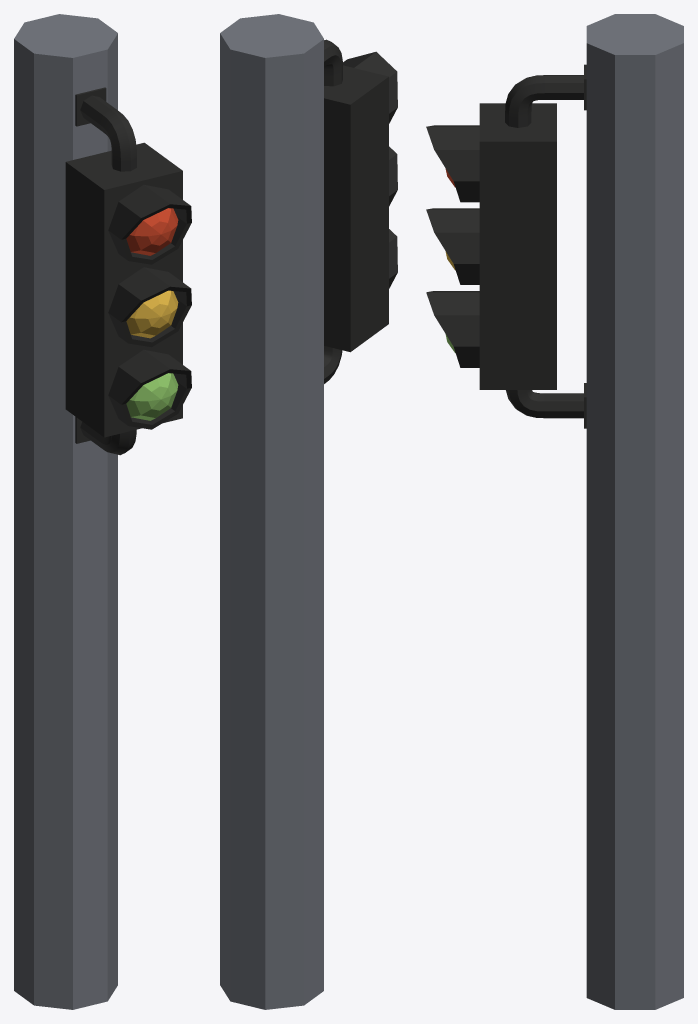
The model's file is trafficUpright.fbx.
3 renders of one model, left to right at view 1: azimuth 30°, elevation 25°; view 2: azimuth 150°, elevation 25°; view 3: azimuth 270°, elevation 25°, orthographic.
Visible parts, largest first — view 1: trafficUpright, trafficLights; view 2: trafficUpright, trafficLights; view 3: trafficUpright, trafficLights.
Part boxes in pixels (x1=…): trafficUpright: x1=14, y1=14, x2=117, y2=1009; trafficLights: x1=65, y1=87, x2=191, y2=455; trafficUpright: x1=220, y1=14, x2=323, y2=1009; trafficLights: x1=324, y1=39, x2=397, y2=383; trafficUpright: x1=586, y1=14, x2=683, y2=1009; trafficLights: x1=426, y1=64, x2=586, y2=428.
Size of the model in its own units: 27.72 by 300 by 73.39.
4 materials, 1 textured.
